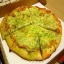pizza: (1, 7, 60, 60)
